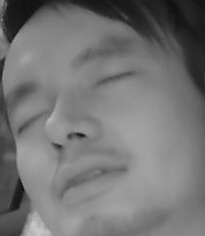blink: (13, 109, 49, 134), (93, 68, 133, 90)
mouth: (51, 152, 137, 206)
